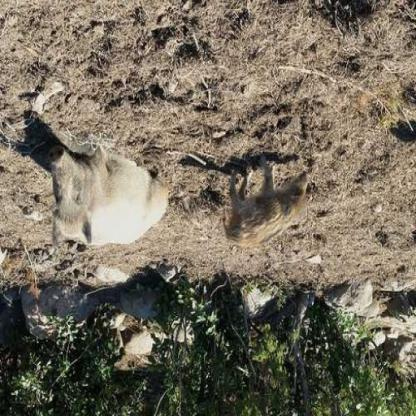boar: (37, 99, 186, 288), (222, 105, 326, 292)
